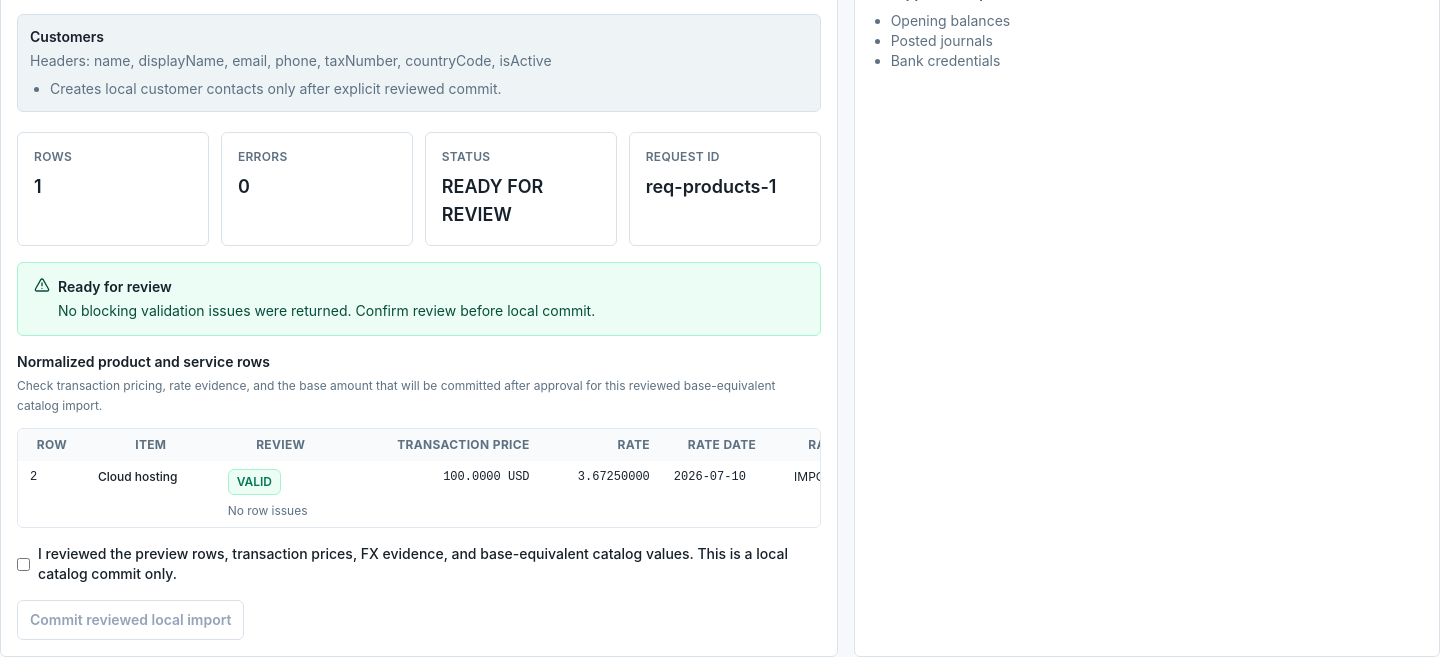
Test case: ImportExportSettingsPage › requires an explicit reviewed action before a base-equivalent catalog commit
The image size is (1440, 657).
(page scrolled)
Expected: the text "base amount that will be committed after approval" is shown, [17, 378, 776, 413]
Expected: the button "Commit reviewed local import" is disabled, [17, 600, 244, 640]
Click the checkbox labelled "I reviewed the preview rows" at (24, 564), box [17, 558, 30, 570]
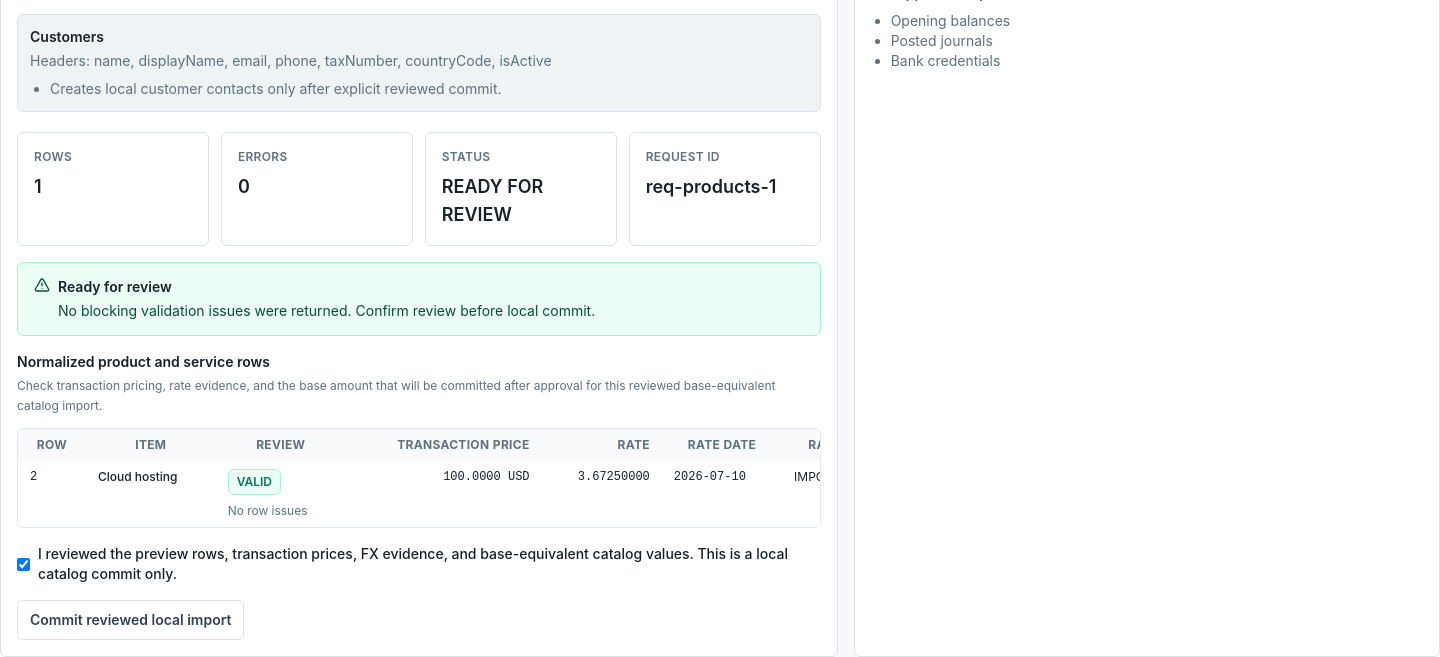
Expected: the button "Commit reviewed local import" is enabled, [17, 600, 244, 640]
